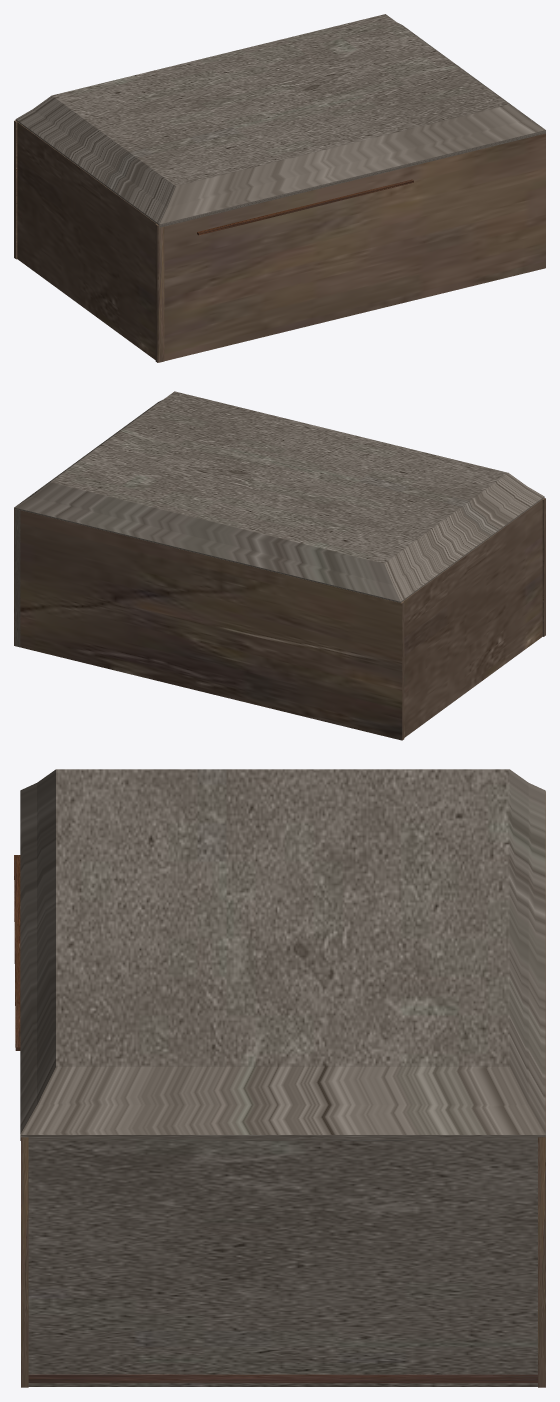
File: room2.fbx
3 views of the same model, one above another, from view 1: azimuth 30°, elevation 25°; view 2: azimuth 150°, elevation 25°; view 3: azimuth 270°, elevation 25° (orthographic). The views are drawn at different scales.
Visible parts, largest first — view 1: polySurface15, polySurface17, polySurface3, pCube30, polySurface16; view 2: polySurface15, polySurface16, polySurface3, polySurface18, polySurface17; view 3: polySurface15, polySurface18, polySurface12, polySurface16, polySurface17, pCube30.
Part boxes in pixels (x1,y1,x2,y2): polySurface15: (15,14,545,227); polySurface17: (155,133,545,362); polySurface3: (16,121,164,362); pCube30: (197,179,413,235); polySurface16: (14,120,17,259); polySurface15: (14,391,544,602); polySurface16: (14,508,404,740); polySurface3: (402,498,544,737); polySurface18: (14,509,20,647); polySurface17: (542,498,545,636); polySurface15: (20,769,545,1140); polySurface18: (28,1132,545,1386); polySurface12: (28,1374,537,1382); polySurface16: (538,791,545,1387); polySurface17: (21,1137,28,1387); pCube30: (14,855,20,1050).
Size of the model in its own units: 36.03 by 14.46 by 23.41.
